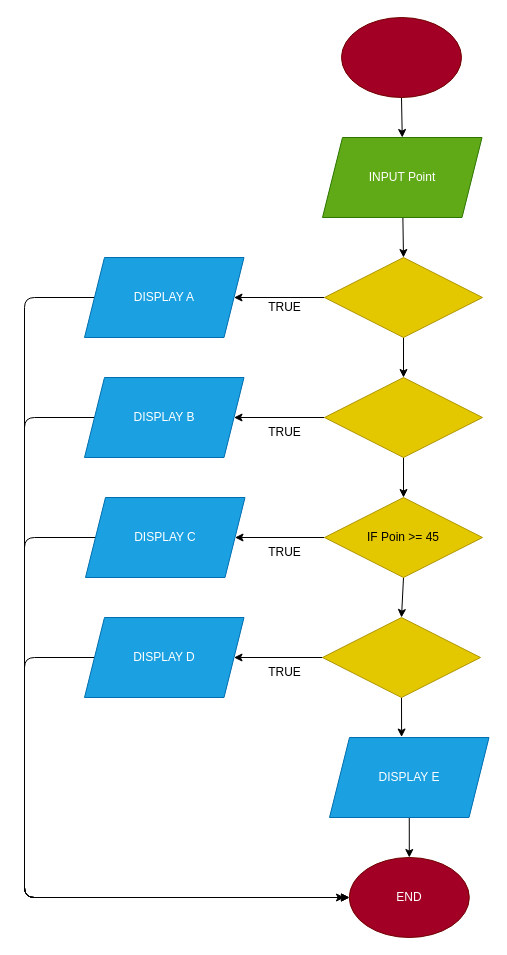
Image size: 507x955. Some labels were removed from this diagram. Here are the shapes that lost their labels. From the top down, the centre of each, then its label:
At pixel 401 57: "START".
At pixel 403 297: "IF Point >=70".
At pixel 403 417: "IF Poin >= 65".
At pixel 401 657: "IF 35 <= Point < 60".
